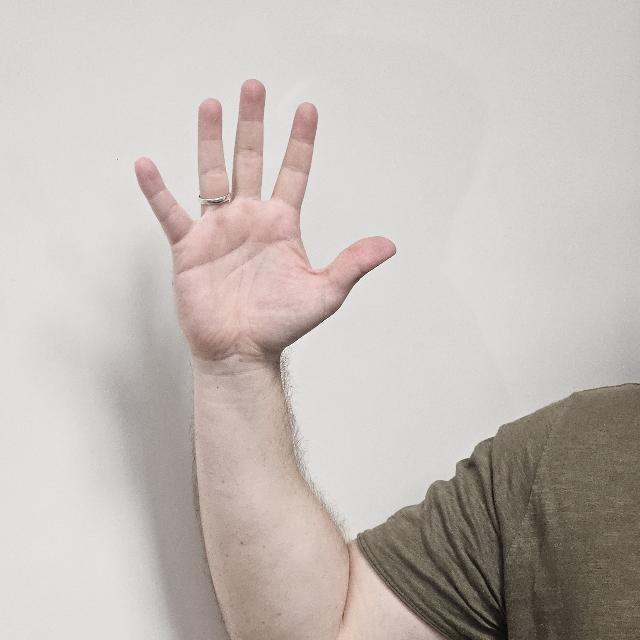X: (132, 78, 398, 382)
